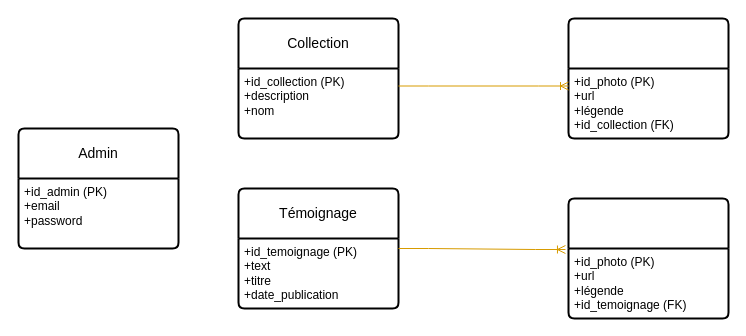
The diagram is 746 pixels wide and 336 high, and some of its shapes have lost their labels. The box of each missing label's shape, as (x1, y1, x2, y2) in pixels:
photo_collection: (567, 17, 729, 139)
photo_témoignage: (567, 197, 729, 319)
